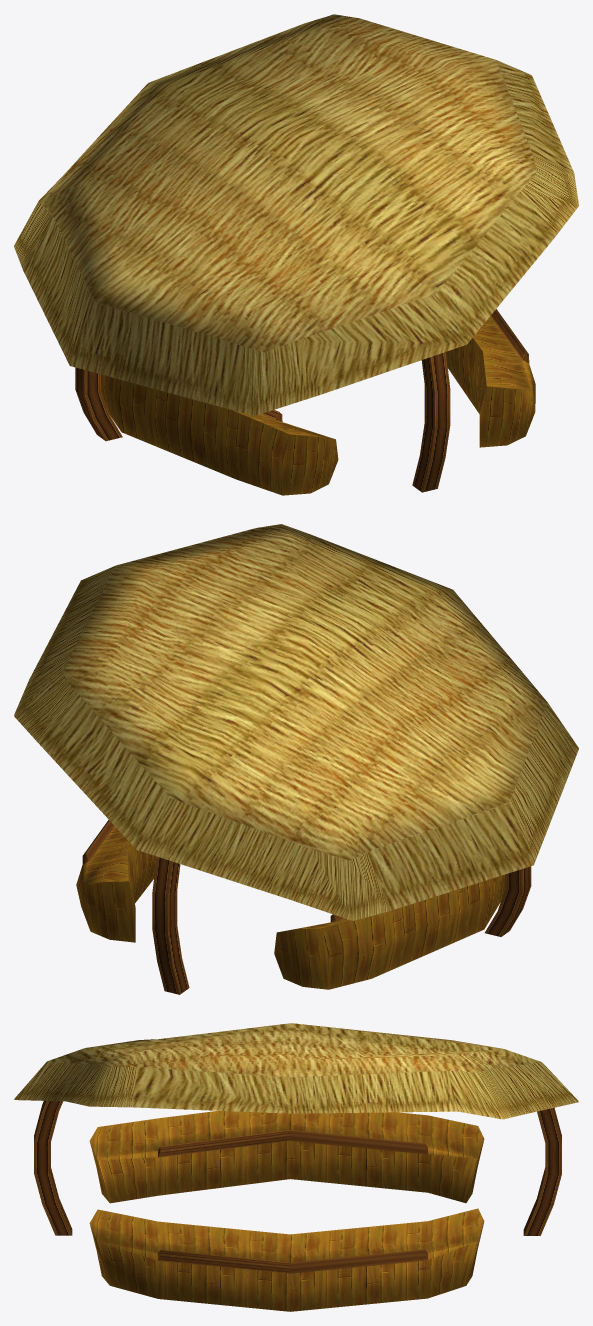
Rendered from INST_HTOWN_SPICESTAND.fbx.
3 renders of one model, top to bottom at view 1: azimuth 30°, elevation 25°; view 2: azimuth 150°, elevation 25°; view 3: azimuth 270°, elevation 25°, orthographic. The views are drawn at different scales.
Visible parts, largest first — view 1: INST_HTOWN_SPICESTAND; view 2: INST_HTOWN_SPICESTAND; view 3: INST_HTOWN_SPICESTAND.
Part boxes in pixels (<box>): INST_HTOWN_SPICESTAND: <box>14,14,578,495</box>; INST_HTOWN_SPICESTAND: <box>14,524,578,994</box>; INST_HTOWN_SPICESTAND: <box>14,1023,578,1311</box>.
Bounding box in the file's own units: 49984 × 29243 × 61729.
Materials: 4 (4 with a texture image).
